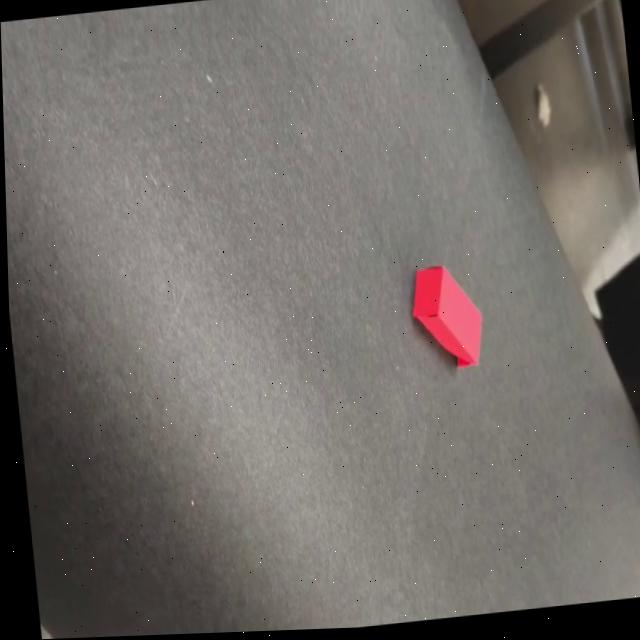red block: (406, 259, 486, 373)
